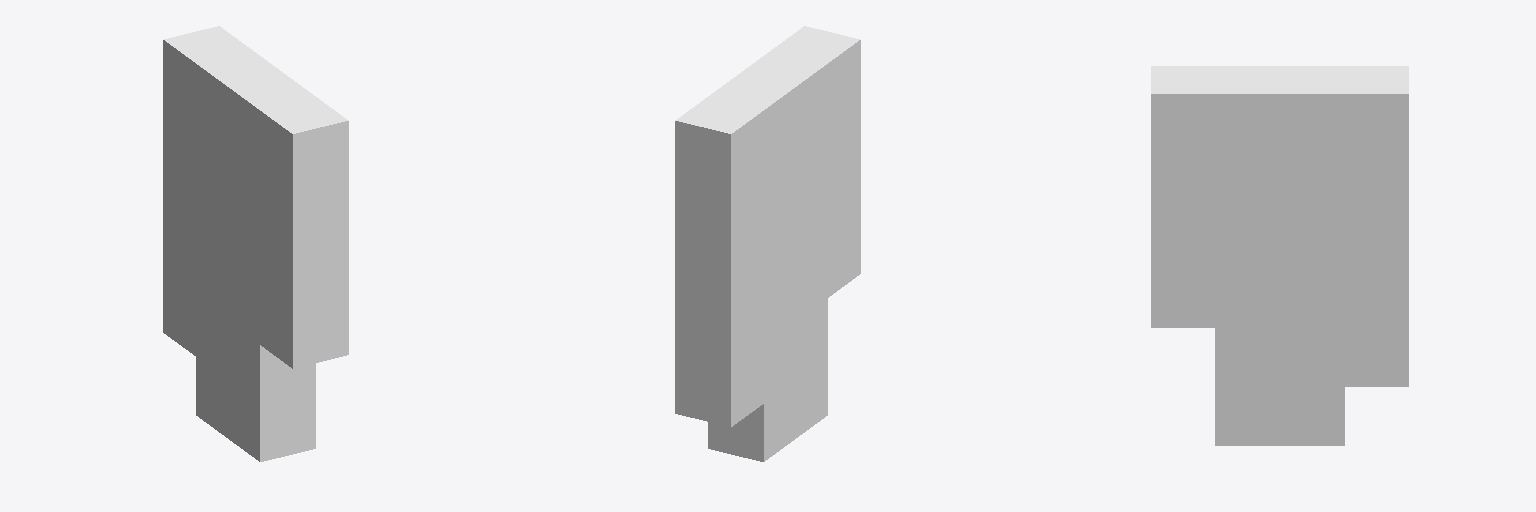
File: anim_penguin_v2_wings.obj
The picture shows the model from 3 angles: view 1: azimuth 30°, elevation 25°; view 2: azimuth 150°, elevation 25°; view 3: azimuth 270°, elevation 25°; orthographic projection.
Parts seen in each view (by area): view 1: object 1; view 2: object 1; view 3: object 1.
Part boxes in pixels (x1,y1,x2,y2): object 1: (163, 26, 348, 461); object 1: (675, 26, 860, 461); object 1: (1151, 66, 1408, 445).
Size of the model in its own units: 0.1 by 0.6 by 0.4.